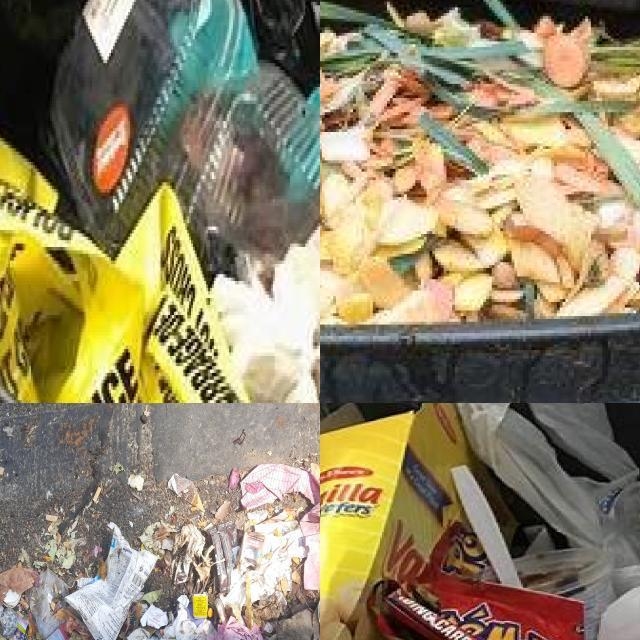Background: (0, 403, 320, 640)
Cig_bud: (92, 486, 102, 503), (46, 514, 58, 522)
Cig_pack: (237, 531, 266, 572)
Disposable: (50, 0, 320, 260), (515, 548, 616, 640)
Garbage: (320, 2, 640, 324), (320, 403, 640, 640)
Plastic: (0, 137, 252, 403)
Plastic_Bag: (454, 403, 639, 547), (213, 224, 320, 403), (29, 570, 68, 638)
Plastic_Straw: (452, 465, 522, 587)
Plastic_wraper: (369, 522, 586, 640), (65, 522, 158, 640), (208, 520, 240, 593), (125, 602, 148, 629), (11, 612, 29, 640), (266, 508, 296, 522)
